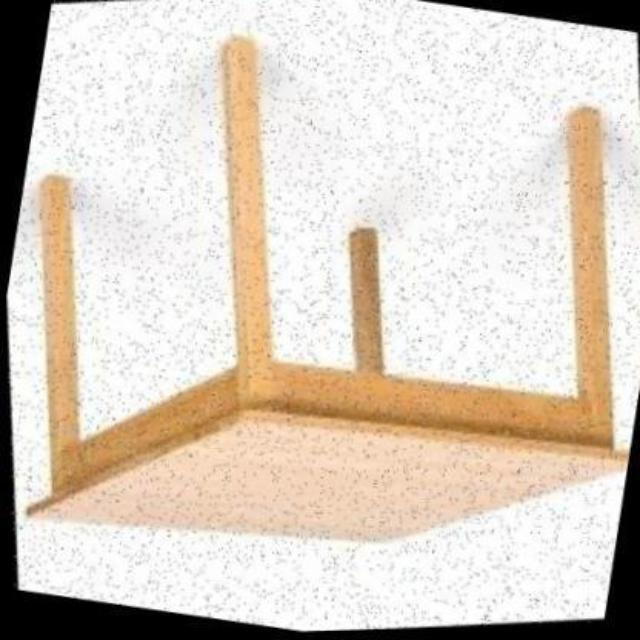table: (25, 48, 640, 547)
